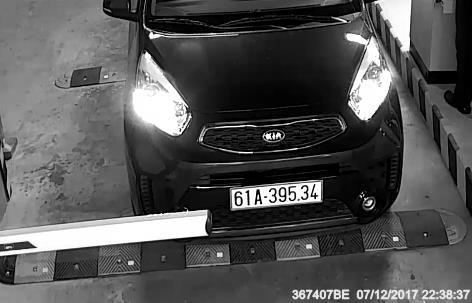License-plate: (216, 184, 334, 211)
